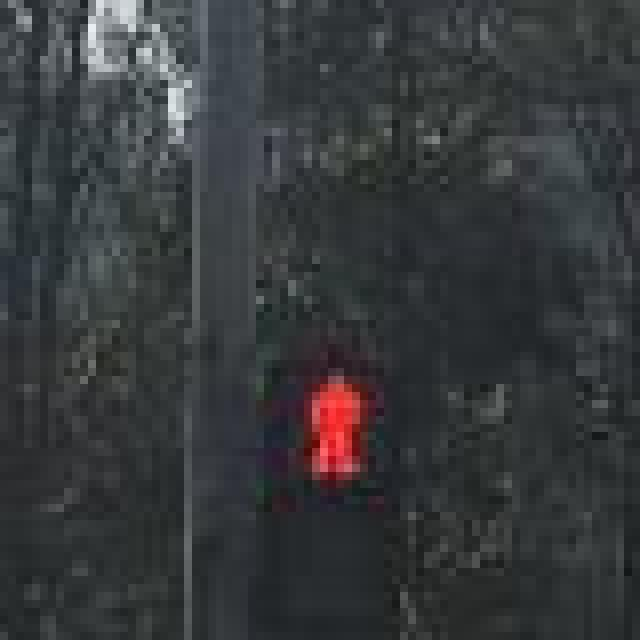redlight: (238, 346, 404, 640)
